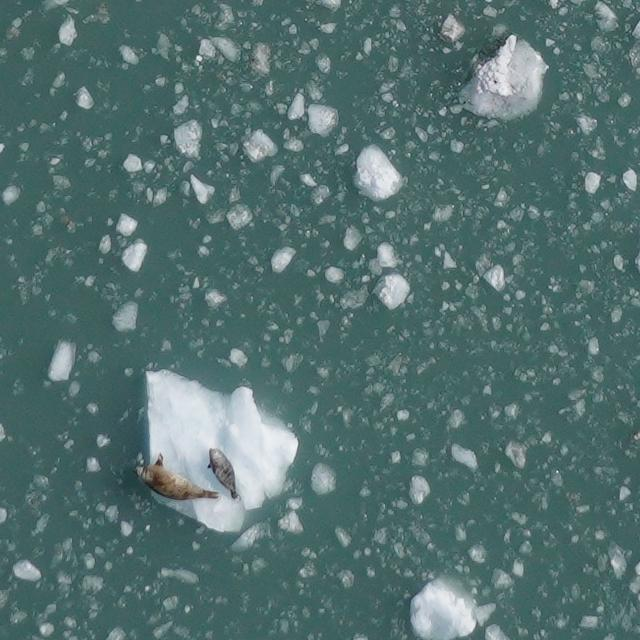seal: (129, 448, 222, 504), (205, 443, 243, 504)
